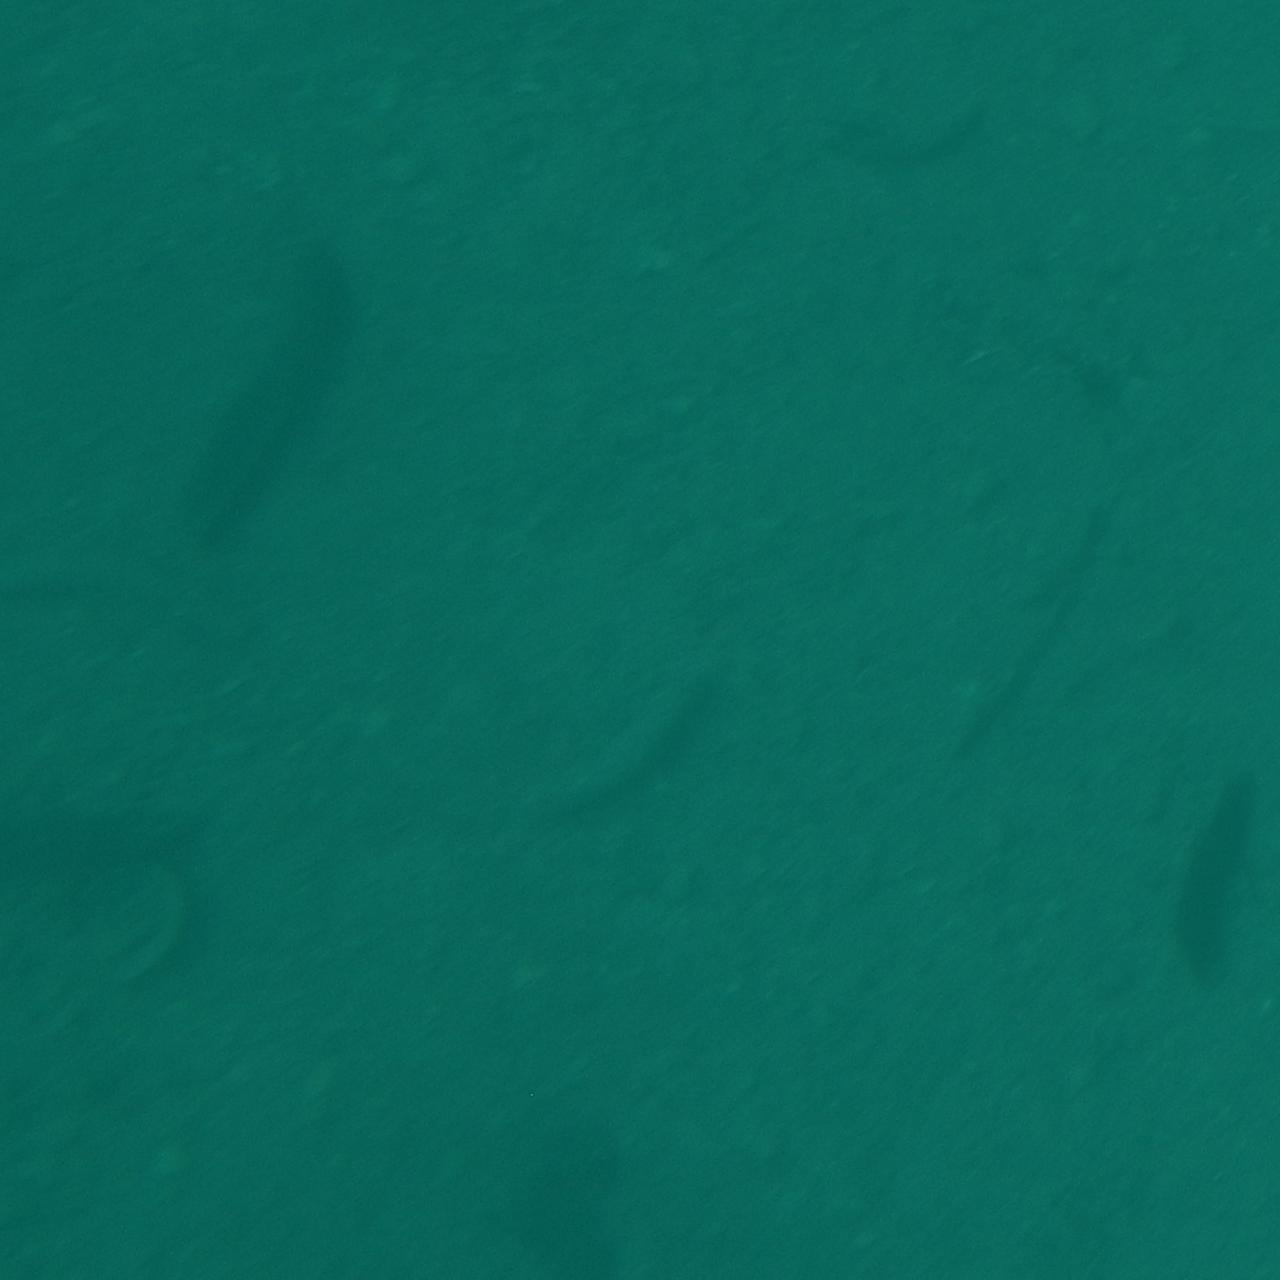Holothuria tubulosa: (170, 209, 377, 583), (463, 673, 727, 849), (0, 785, 238, 907), (1160, 756, 1268, 1013)
